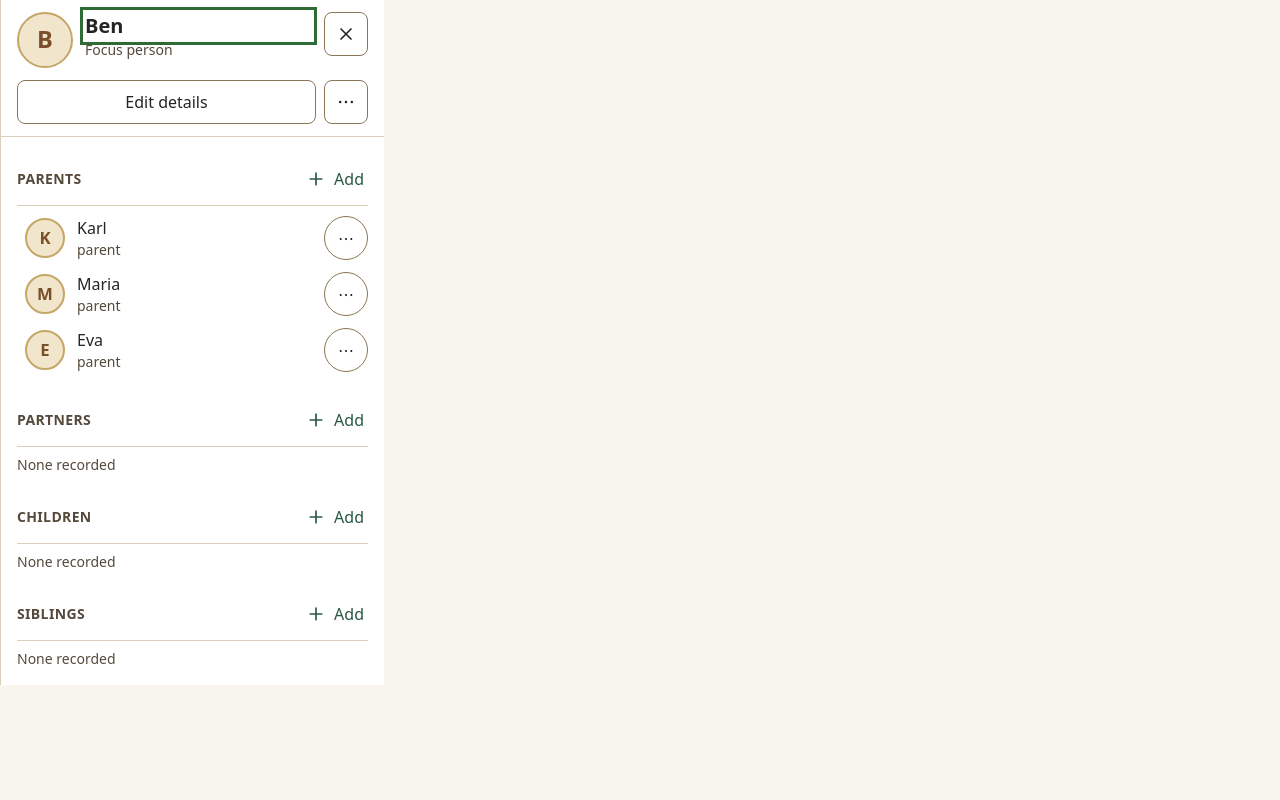
it: Edit link: a Parent link › disables birth, with the reason, when the child already has two other birth parents
Click the 3rd button "⋯": point(346, 350) [324,328,368,372]
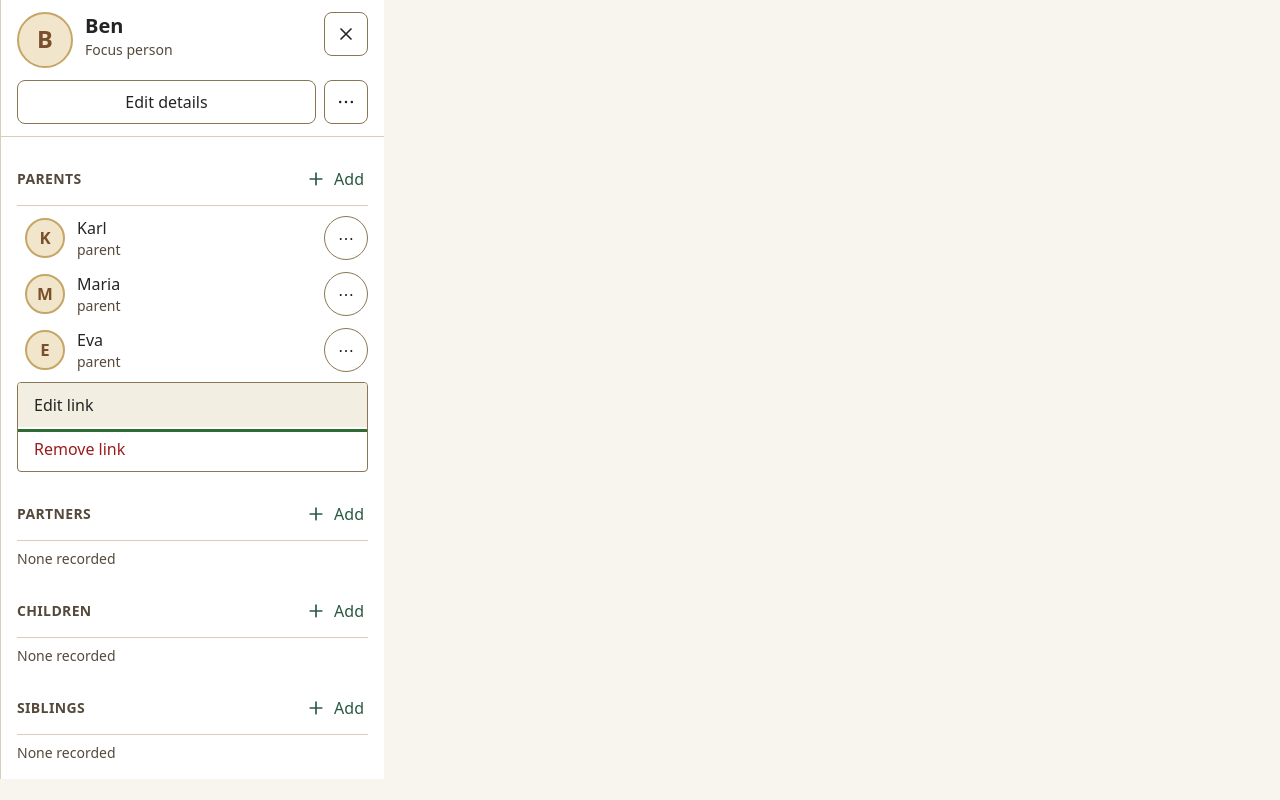
Click the menu item "Edit link": point(64, 405) [18,383,367,427]
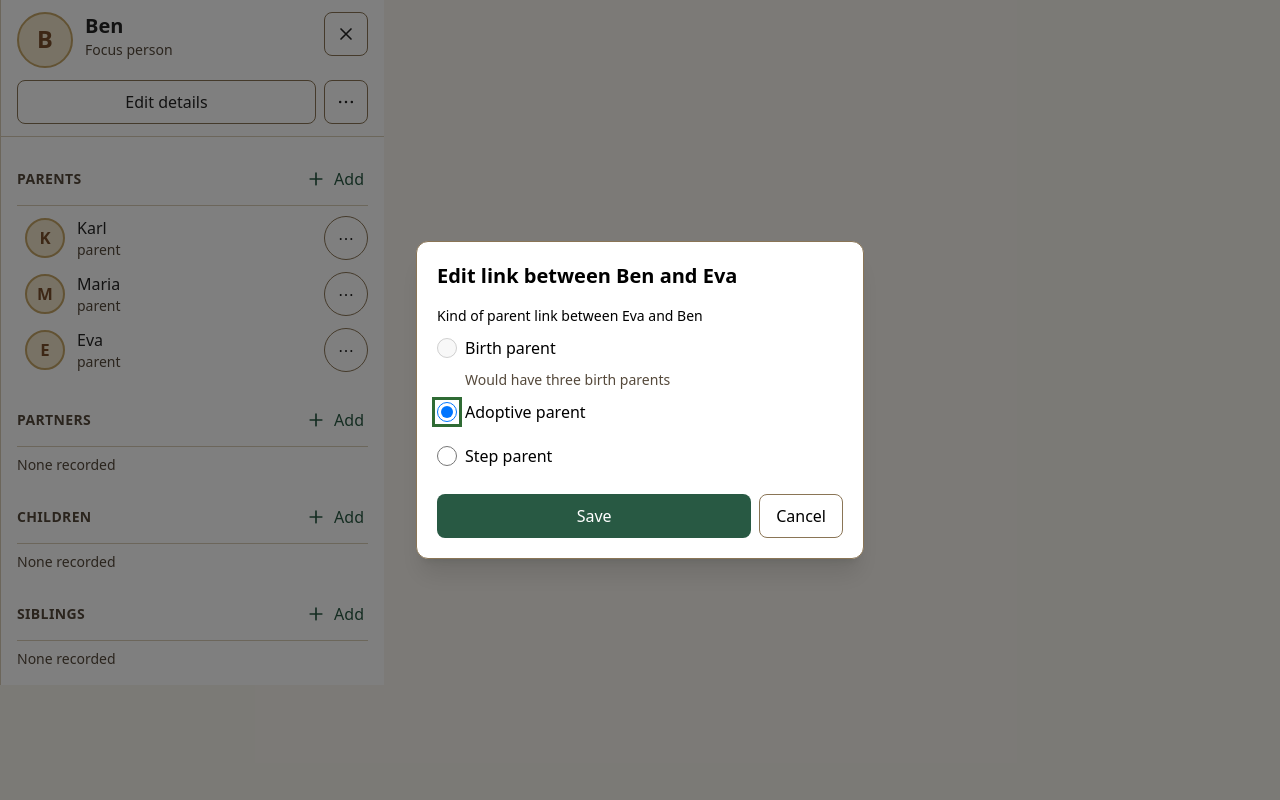
Check: the radio button labelled "Birth parent" is disabled, box [437,338,457,358]
Check: the radio button labelled "Adoptive parent" is enabled, box [437,402,457,422]
